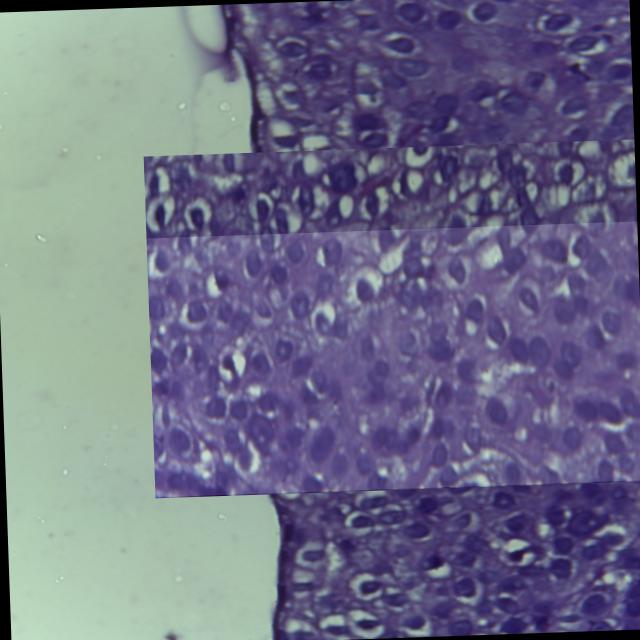Nuclear Hyperchromatism: (153, 225, 640, 496)
